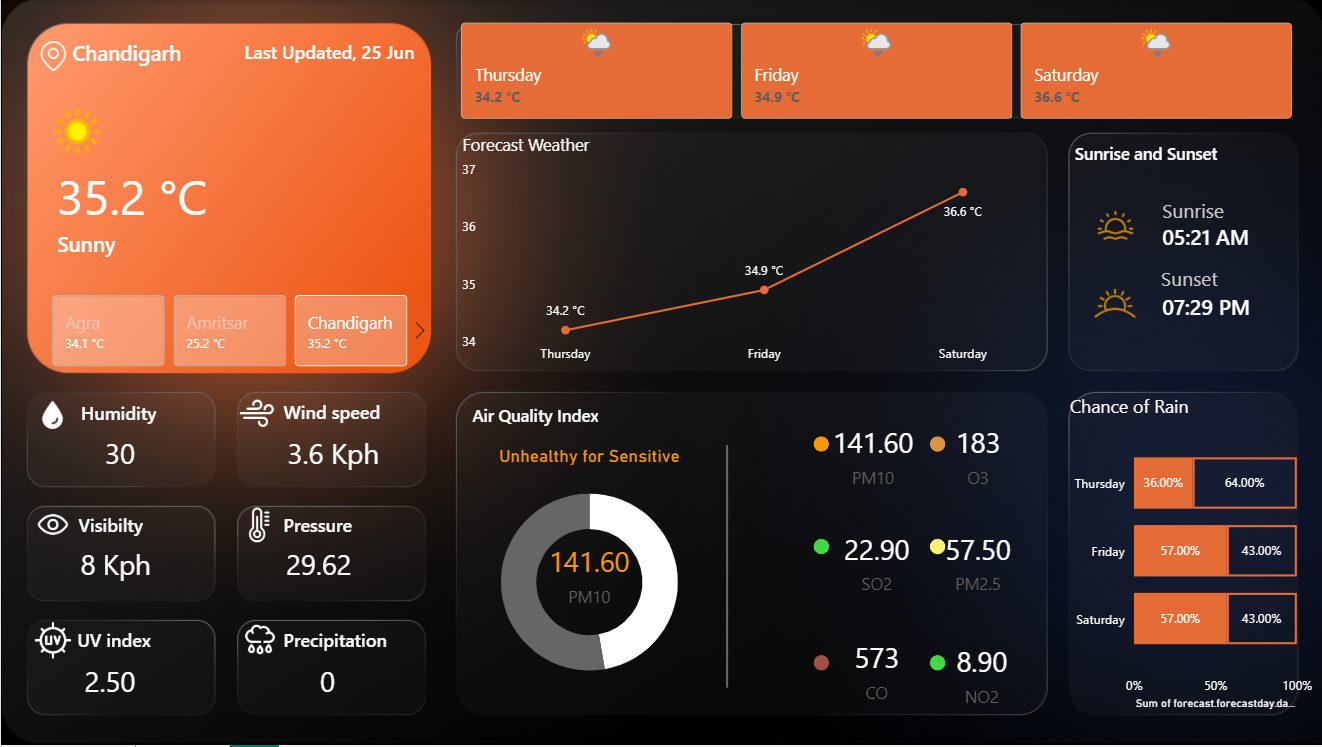

What the dashboard file says about the page in this screenshot:
{"tool":"powerbi","page":{"name":"Page 1","canvas":[1280,720],"ordinal":0},"visuals":[{"type":"advancedSlicerVisual","fields":{"Values":["Location.location.name"],"Label":["_Measures.Curr_Temp_C"]},"box":[24.7,279.9,395.2,79.6],"z":0},{"type":"shape","box":[54.9,148.2,167.4,79.6],"z":1000},{"type":"shape","box":[54.9,216.8,344.4,35.7],"z":2000},{"type":"shape","box":[68.6,32.9,153.7,35.7],"z":3000},{"type":"shape","box":[231.9,32.9,167.4,35.7],"z":4000},{"type":"image","box":[24.7,39.8,53.5,28.8],"z":5000},{"type":"image","box":[32.6,86.9,82,79.6],"z":6000},{"type":"image","box":[24.1,488.6,51.9,35],"z":7000},{"type":"shape","box":[74.8,488.6,129.1,35],"z":8000},{"type":"shape","box":[77.2,383.6,166.5,29],"z":9000},{"type":"shape","box":[73.6,599.6,166.5,35],"z":10000},{"type":"shape","box":[272.7,380,166.5,35],"z":11000},{"type":"shape","box":[272.7,488.6,166.5,35],"z":12000},{"type":"shape","box":[272.7,599.6,166.5,35],"z":13000},{"type":"image","box":[31.4,386.1,37.4,29],"z":14000},{"type":"image","box":[31.4,593.6,37.4,48.3],"z":15000},{"type":"image","box":[226.8,489.8,44.6,33.8],"z":16000},{"type":"image","box":[226.8,599.6,45.8,35],"z":17000},{"type":"image","box":[226.8,381.2,39.8,35],"z":18000},{"type":"card","fields":{"Values":["Sum(Current.current.humidity)"]},"box":[74.2,416.2,80.3,45],"z":19000},{"type":"card","fields":{"Values":["_Measures.Wind_Speed"]},"box":[266.5,416.2,108.3,45],"z":20000},{"type":"card","fields":{"Values":["Sum(Current.current.uv)"]},"box":[65.7,635.3,80.3,45],"z":21000},{"type":"card","fields":{"Values":["Sum(Current.current.pressure_in)"]},"box":[266.5,523.3,80.3,45],"z":22000},{"type":"card","fields":{"Values":["_Measures.Visibilty_km"]},"box":[65.7,523.3,91.3,45],"z":23000},{"type":"card","fields":{"Values":["Sum(Current.current.precip_in)"]},"box":[275,635.3,80.3,45],"z":24000},{"type":"advancedSlicerVisual","fields":{"Values":["Forcast_Day.Day_Name"]},"box":[439.1,16.9,813.1,103.8],"z":25000},{"type":"lineChart","title":"Forecast Weather","fields":{"Y":["Sum(Forcast_Day.forecast.forecastday.day.avgtemp_c)"],"Category":["Forcast_Day.Day_Name"]},"box":[439.9,127.5,570,232.1],"z":26000},{"type":"shape","box":[1036.7,133.9,167,28.1],"z":27000},{"type":"shape","box":[1120.9,204,113.5,48.5],"z":28000},{"type":"shape","box":[1120.9,271.6,113.5,48.5],"z":29000},{"type":"shape","box":[1120.9,178.5,113.5,48.5],"z":30000},{"type":"shape","box":[1119.6,243.6,113.5,48.5],"z":31000},{"type":"image","box":[1046.9,200.2,56.1,34.4],"z":32000},{"type":"image","box":[1046.9,266.5,56.1,52.3],"z":33000},{"type":"hundredPercentStackedBarChart","title":"Chance of Rain","fields":{"Y":["Sum(Forcast_Day.forecast.forecastday.day.daily_chance_of_rain)","Current.Left_value_Rain"],"Category":["Forcast_Day.Day_Name"]},"box":[1027.2,380.2,244.2,309.7],"z":34000},{"type":"shape","box":[454.4,386.5,167.4,29],"z":35000},{"type":"card","fields":{"Values":["Sum(Current.current.air_quality.pm10)"]},"box":[791.8,405.4,100.7,68],"z":36000},{"type":"card","fields":{"Values":["Sum(Current.current.air_quality.o3)"]},"box":[892.5,405.4,100.7,68],"z":37000},{"type":"card","fields":{"Values":["Sum(Current.current.air_quality.pm2_5)"]},"box":[892.5,507.3,100.7,68],"z":38000},{"type":"card","fields":{"Values":["Sum(Current.current.air_quality.so2)"]},"box":[795.6,507.3,100.7,68],"z":39000},{"type":"card","fields":{"Values":["Sum(Current.current.air_quality.no2)"]},"box":[896.3,616.8,100.7,68],"z":40000},{"type":"card","fields":{"Values":["Sum(Current.current.air_quality.co)"]},"box":[795.6,613.1,100.7,68],"z":41000},{"type":"shape","box":[784.3,420.5,15,15],"z":42000},{"type":"shape","box":[784.3,519.9,15.1,15.1],"z":43000},{"type":"shape","box":[896.3,420.5,15.1,15.1],"z":44000},{"type":"shape","box":[784.3,631.9,15.1,15.1],"z":45000},{"type":"shape","box":[896.3,631.9,15.1,15.1],"z":46000},{"type":"shape","box":[896.3,519.9,15.1,15.1],"z":47000},{"type":"shape","box":[618.1,429.3,166.2,234.1],"z":48000},{"type":"card","fields":{"Values":["Sum(Current.current.air_quality.pm10)"]},"box":[517.4,519.9,100.7,68],"z":49000},{"type":"donutChart","fields":{"Y":["Sum(Current.current.air_quality.pm10)","_Measures.Left_value_PM10"]},"box":[426.8,429.3,282,244.2],"z":50000}]}

Visuals, with their boxes in screenshot pixels (x1, y1, x2, y2), scaled from the page's 1280x720 canvas onto the 1322x747 screenshot:
advancedSlicerVisual - Location.location.name x _Measures.Curr_Temp_C: (left=26, top=290, right=434, bottom=373)
shape: (left=57, top=154, right=230, bottom=236)
shape: (left=57, top=225, right=412, bottom=262)
shape: (left=71, top=34, right=230, bottom=71)
shape: (left=240, top=34, right=412, bottom=71)
image: (left=26, top=41, right=81, bottom=71)
image: (left=34, top=90, right=118, bottom=173)
image: (left=25, top=507, right=78, bottom=543)
shape: (left=77, top=507, right=211, bottom=543)
shape: (left=80, top=398, right=252, bottom=428)
shape: (left=76, top=622, right=248, bottom=658)
shape: (left=282, top=394, right=454, bottom=431)
shape: (left=282, top=507, right=454, bottom=543)
shape: (left=282, top=622, right=454, bottom=658)
image: (left=32, top=401, right=71, bottom=431)
image: (left=32, top=616, right=71, bottom=666)
image: (left=234, top=508, right=280, bottom=543)
image: (left=234, top=622, right=282, bottom=658)
image: (left=234, top=395, right=275, bottom=432)
card - Sum(Current.current.humidity): (left=77, top=432, right=160, bottom=478)
card - _Measures.Wind_Speed: (left=275, top=432, right=387, bottom=478)
card - Sum(Current.current.uv): (left=68, top=659, right=151, bottom=706)
card - Sum(Current.current.pressure_in): (left=275, top=543, right=358, bottom=590)
card - _Measures.Visibilty_km: (left=68, top=543, right=162, bottom=590)
card - Sum(Current.current.precip_in): (left=284, top=659, right=367, bottom=706)
advancedSlicerVisual - Forcast_Day.Day_Name: (left=454, top=18, right=1293, bottom=125)
"Forecast Weather" lineChart: (left=454, top=132, right=1043, bottom=373)
shape: (left=1071, top=139, right=1243, bottom=168)
shape: (left=1158, top=212, right=1275, bottom=262)
shape: (left=1158, top=282, right=1275, bottom=332)
shape: (left=1158, top=185, right=1275, bottom=236)
shape: (left=1156, top=253, right=1274, bottom=303)
image: (left=1081, top=208, right=1139, bottom=243)
image: (left=1081, top=276, right=1139, bottom=331)
"Chance of Rain" hundredPercentStackedBarChart: (left=1061, top=394, right=1313, bottom=716)
shape: (left=469, top=401, right=642, bottom=431)
card - Sum(Current.current.air_quality.pm10): (left=818, top=421, right=922, bottom=491)
card - Sum(Current.current.air_quality.o3): (left=922, top=421, right=1026, bottom=491)
card - Sum(Current.current.air_quality.pm2_5): (left=922, top=526, right=1026, bottom=597)
card - Sum(Current.current.air_quality.so2): (left=822, top=526, right=926, bottom=597)
card - Sum(Current.current.air_quality.no2): (left=926, top=640, right=1030, bottom=710)
card - Sum(Current.current.air_quality.co): (left=822, top=636, right=926, bottom=707)
shape: (left=810, top=436, right=826, bottom=452)
shape: (left=810, top=539, right=826, bottom=555)
shape: (left=926, top=436, right=941, bottom=452)
shape: (left=810, top=656, right=826, bottom=671)
shape: (left=926, top=656, right=941, bottom=671)
shape: (left=926, top=539, right=941, bottom=555)
shape: (left=638, top=445, right=810, bottom=688)
card - Sum(Current.current.air_quality.pm10): (left=534, top=539, right=638, bottom=610)
donutChart - Sum(Current.current.air_quality.pm10) x _Measures.Left_value_PM10: (left=441, top=445, right=732, bottom=699)
